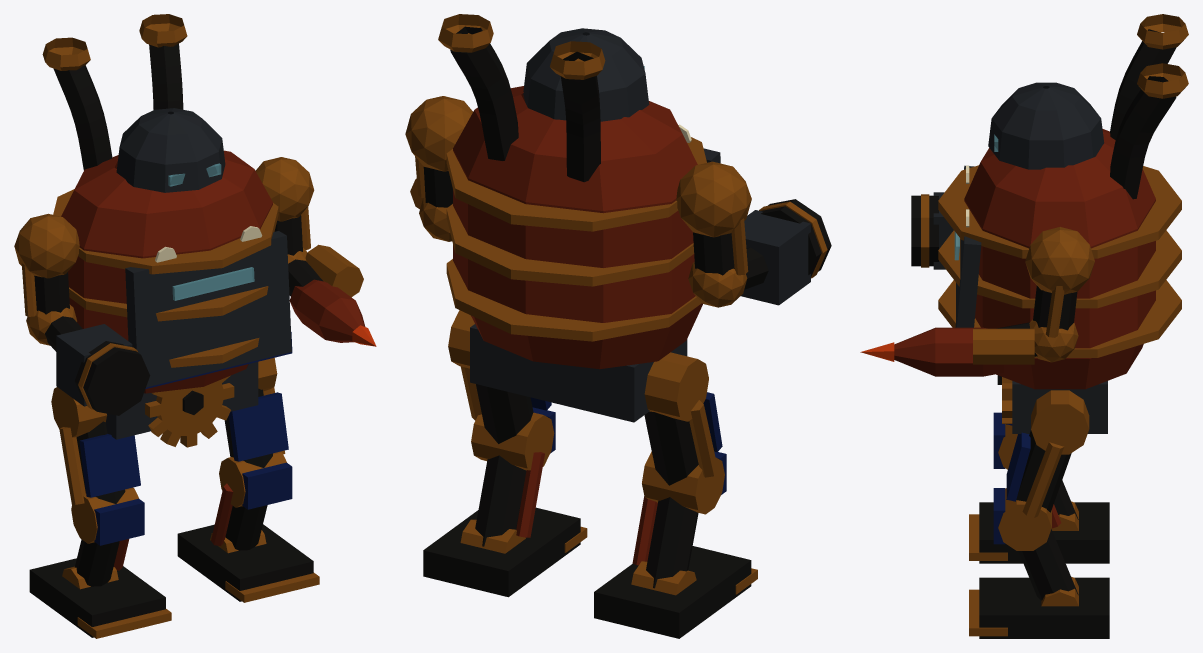
Rendered from Caldera.obj.
3 renders of one model, left to right at view 1: azimuth 30°, elevation 25°; view 2: azimuth 150°, elevation 25°; view 3: azimuth 270°, elevation 25°, orthographic. The views are drawn at different scales.
Parts seen in each view (by area): view 1: Torso, Brazo_I, Rodilla_D, Rodilla_I, Brazo_D, Cuerpo, Pierna_I, Pierna_D; view 2: Torso, Rodilla_D, Rodilla_I, Brazo_I, Cuerpo, Pierna_I, Brazo_D, Pierna_D; view 3: Torso, Brazo_D, Rodilla_D, Pierna_D, Rodilla_I, Cuerpo, Brazo_I.
Part boxes in pixels (x1,y1,x2,y2): Torso: [42, 14, 292, 393]; Brazo_I: [14, 213, 150, 415]; Rodilla_D: [177, 451, 319, 602]; Rodilla_I: [29, 487, 171, 638]; Brazo_D: [255, 157, 376, 346]; Cuerpo: [105, 362, 258, 447]; Pierna_I: [51, 387, 140, 504]; Pierna_D: [224, 357, 288, 467]; Torso: [438, 14, 720, 369]; Rodilla_D: [423, 407, 587, 597]; Rodilla_I: [594, 451, 757, 638]; Brazo_I: [676, 161, 831, 307]; Cuerpo: [470, 324, 687, 422]; Pierna_I: [644, 352, 722, 485]; Brazo_D: [405, 96, 472, 241]; Pierna_D: [448, 310, 551, 443]; Torso: [938, 14, 1188, 389]; Brazo_D: [860, 227, 1094, 376]; Rodilla_D: [969, 488, 1109, 638]; Pierna_D: [1006, 390, 1089, 517]; Rodilla_I: [969, 412, 1109, 563]; Cuerpo: [997, 375, 1107, 433]; Brazo_I: [911, 192, 953, 269].
Bounding box in the file's own units: 5.4 × 8.61 × 4.8.
